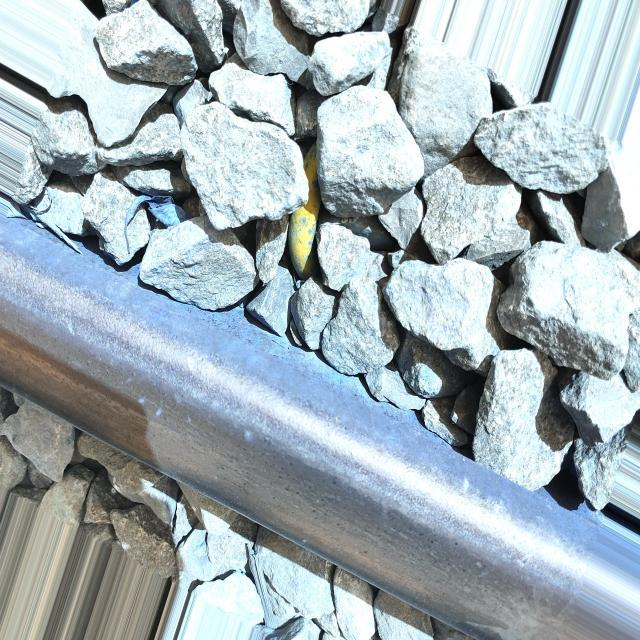Good Fasteners: (288, 144, 321, 279)
